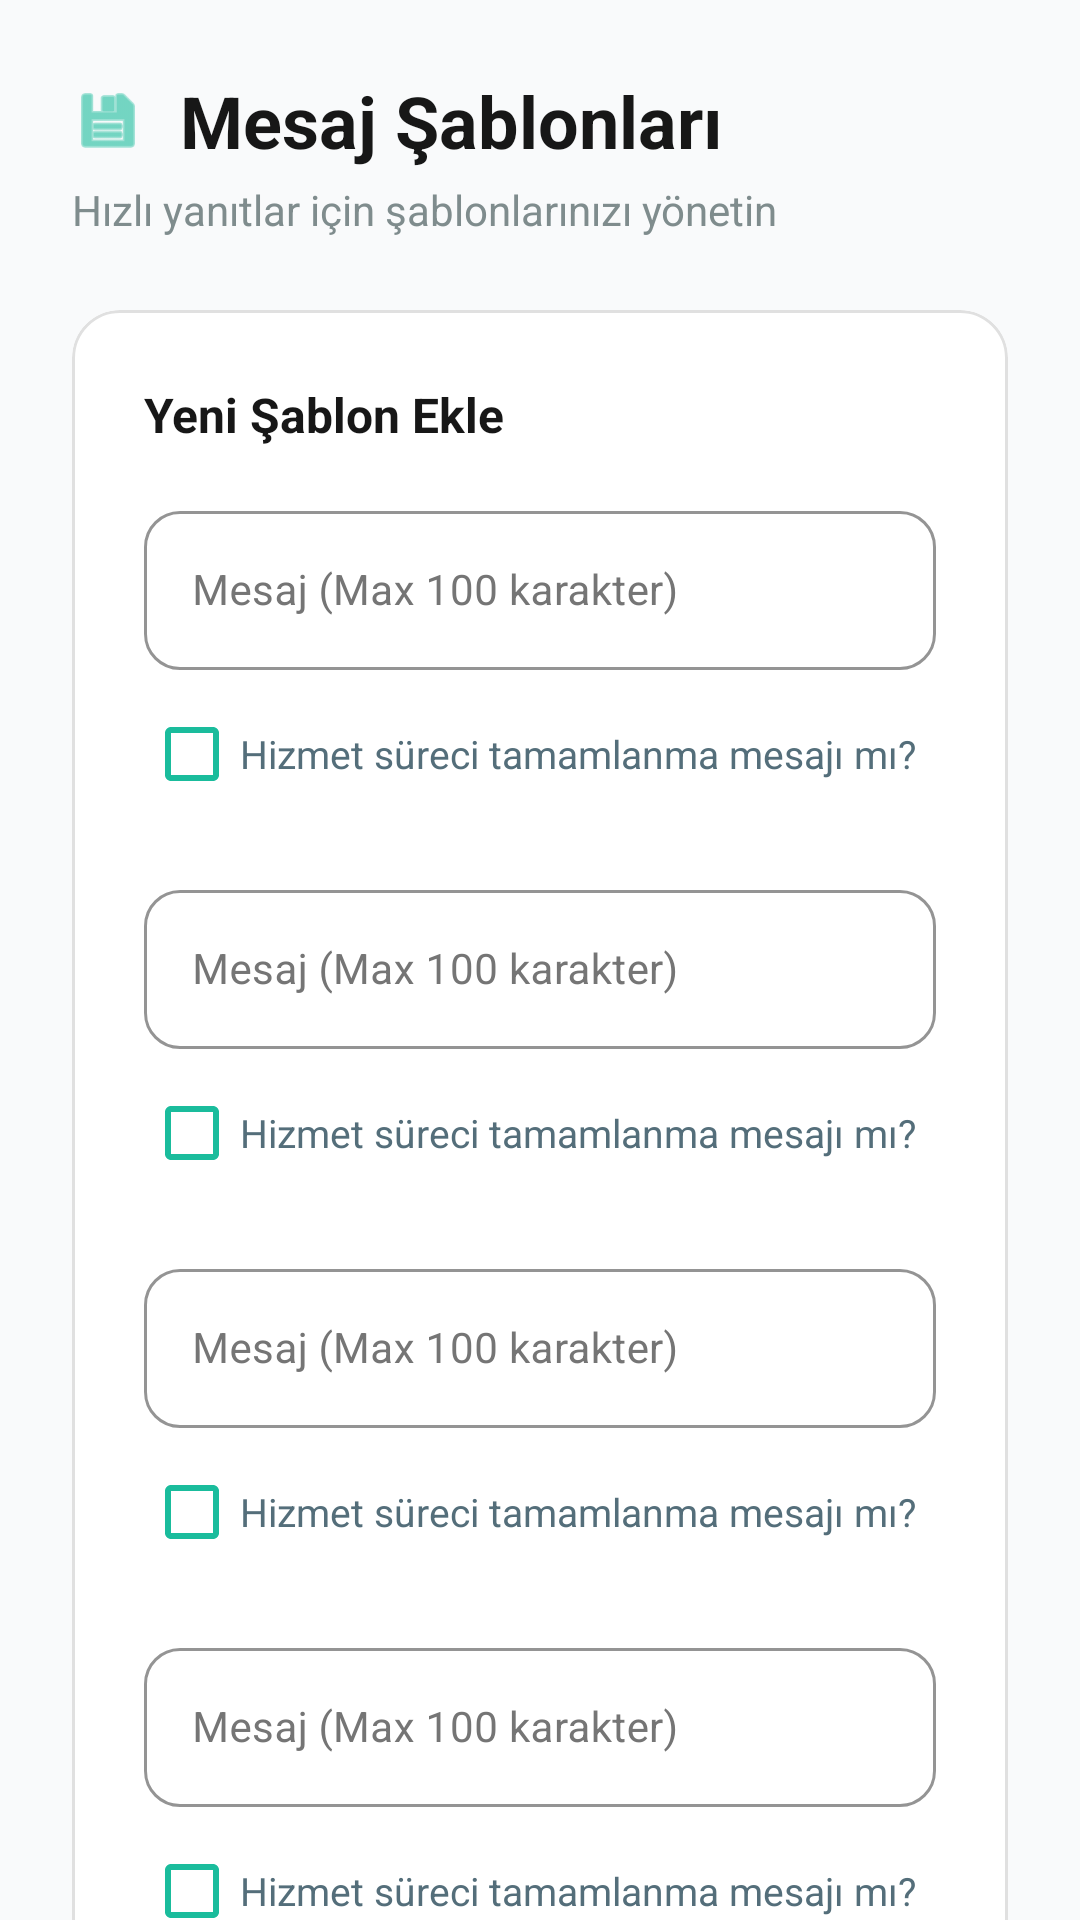

Icons on this 1080w x 1920h Android screen, each with its box as (x1, y1, x2, y2):
save: (81, 93, 135, 148)
